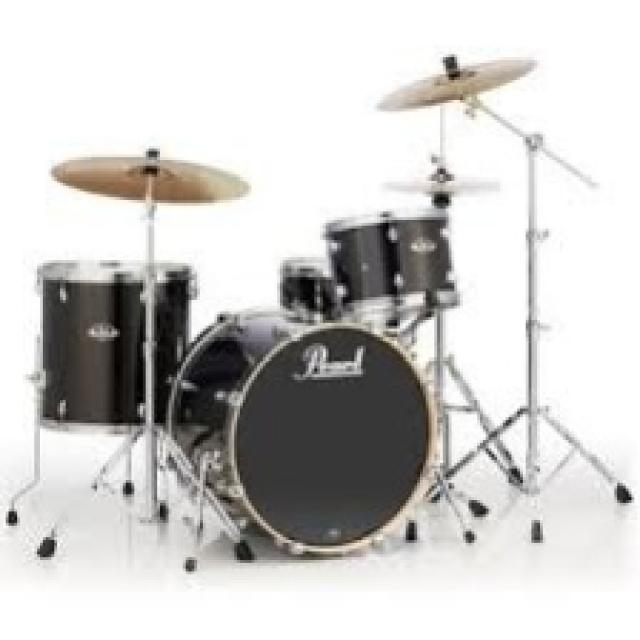drums: (33, 51, 550, 556)
